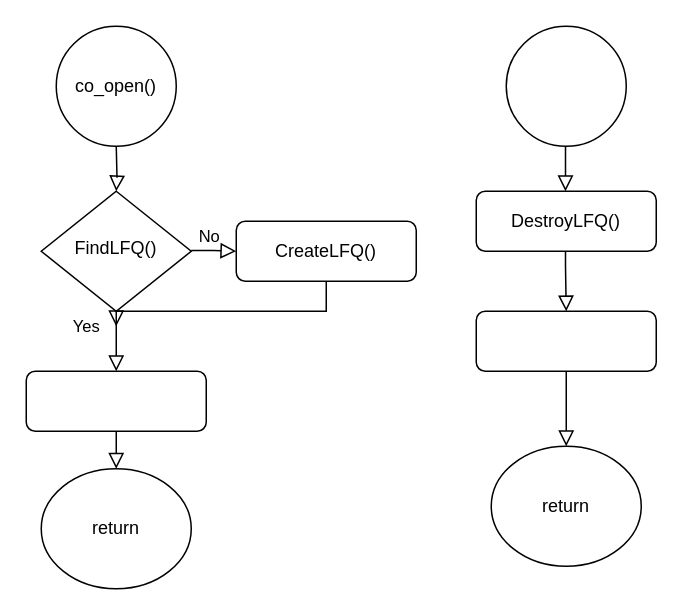
Some shapes in this 683 by 615 pixel diagram are drawn without their labels. Each missing label, with the centre of its shape:
close(): [565,340]
co_close(): [565,85]
open(): [115,400]
